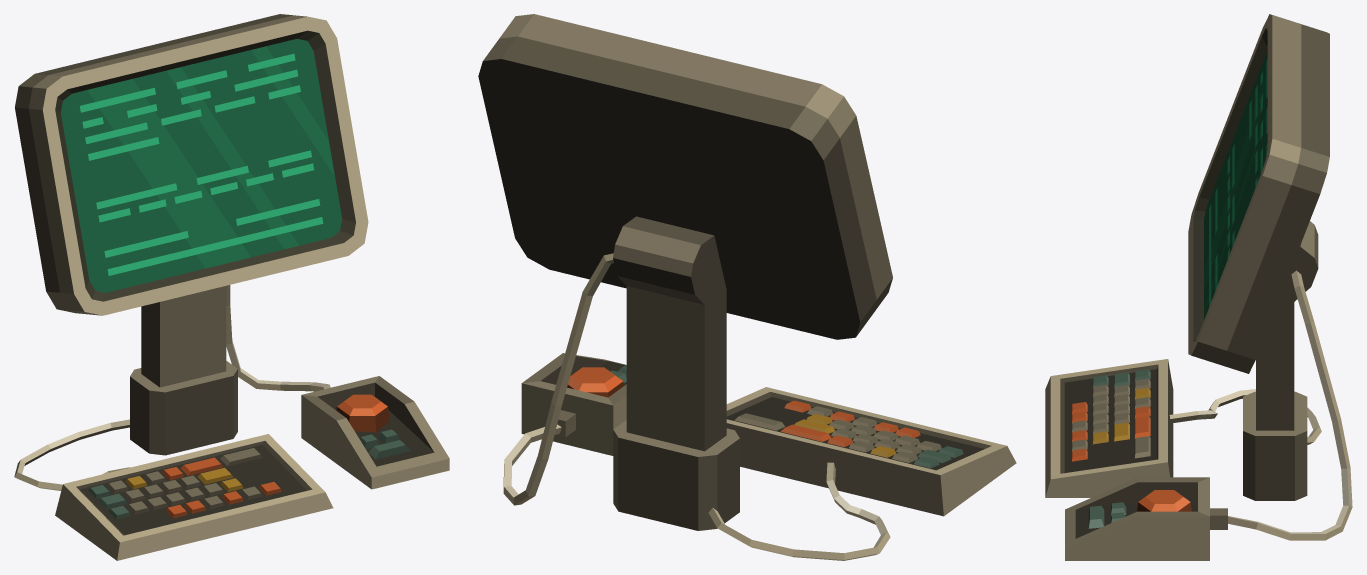
File: CR_Lab2_Computer_01.fbx
3 views of the same model, side by side, from view 1: azimuth 30°, elevation 25°; view 2: azimuth 150°, elevation 25°; view 3: azimuth 270°, elevation 25° (orthographic). The views are drawn at different scales.
Parts seen in each view (by area): view 1: CR_Lab2_Computer_01, CR_Lab2_Computer_01.001; view 2: CR_Lab2_Computer_01; view 3: CR_Lab2_Computer_01, CR_Lab2_Computer_01.001.
Boxes of the visible parts, x1,y1,x2,y2 form: CR_Lab2_Computer_01: [14, 14, 449, 560]; CR_Lab2_Computer_01.001: [79, 53, 323, 275]; CR_Lab2_Computer_01: [478, 14, 1016, 560]; CR_Lab2_Computer_01: [1045, 14, 1352, 560]; CR_Lab2_Computer_01.001: [1209, 59, 1267, 306].
Bounding box in the file's own units: 0.6582 × 0.7197 × 0.4971.
